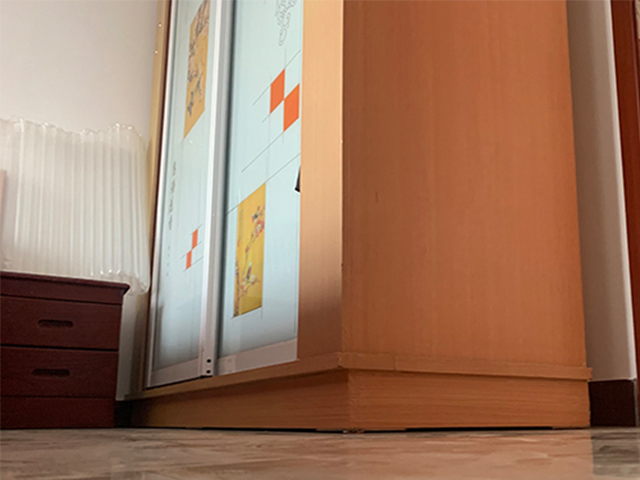cabinet: (131, 1, 593, 433), (1, 269, 131, 429)
